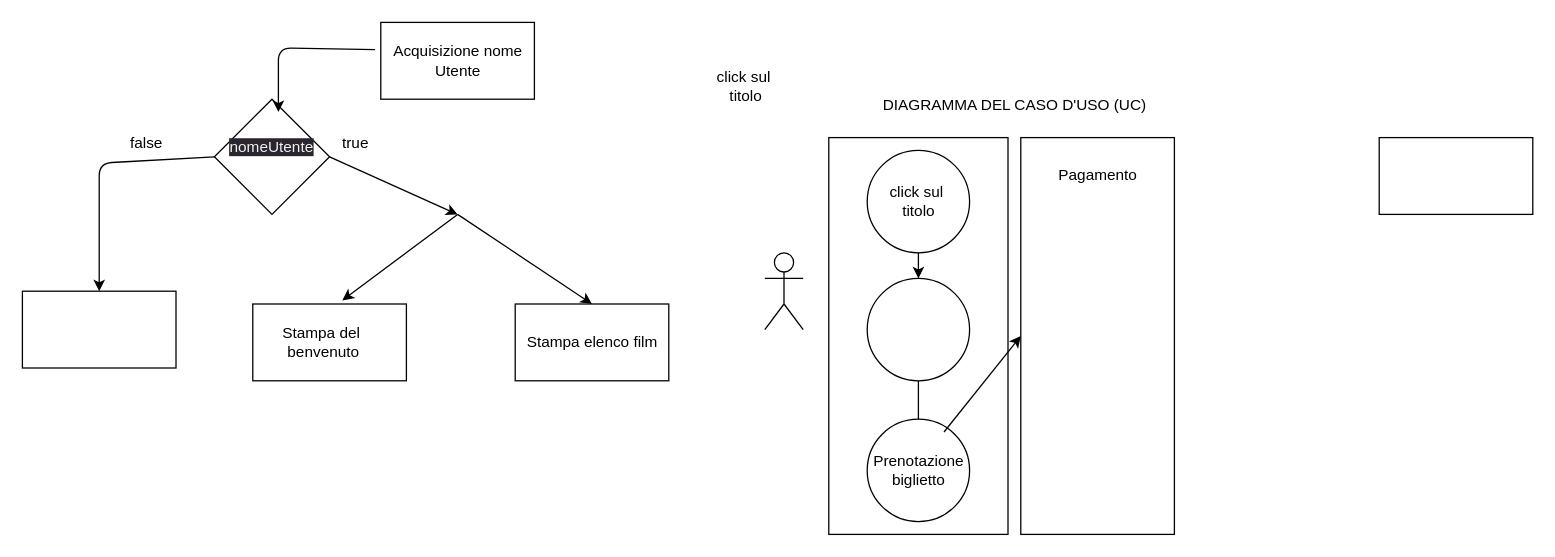
Some shapes in this 1555 by 557 pixel diagram are drawn without their labels. Each missing label, with the box of its shape:
Actor: (764, 252, 803, 330)
lettura info film,: (866, 277, 970, 381)
Messaggio errore autenticazione: (21, 290, 176, 368)
